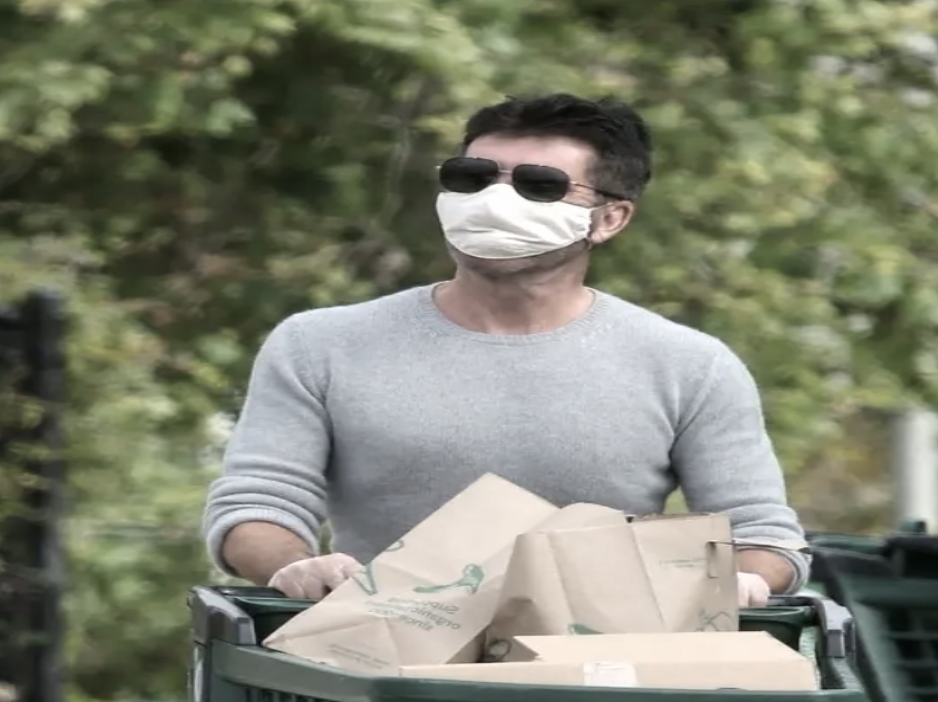mask_weared_incorrect: (425, 98, 655, 280)
